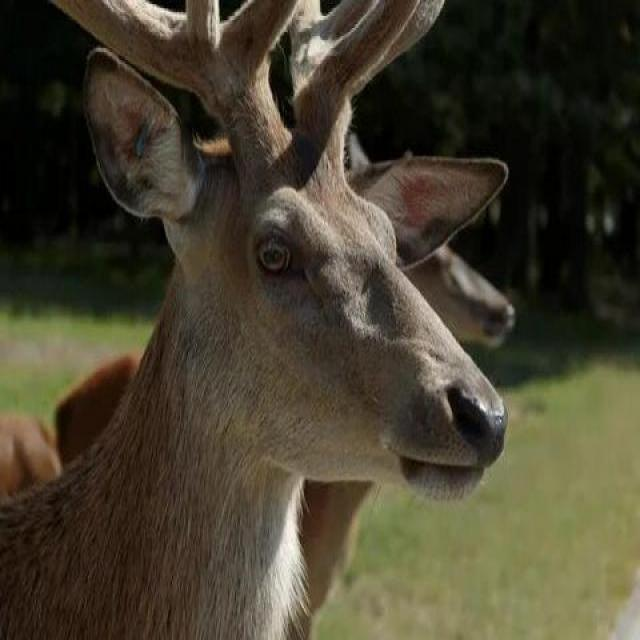deer: (120, 21, 448, 528)
